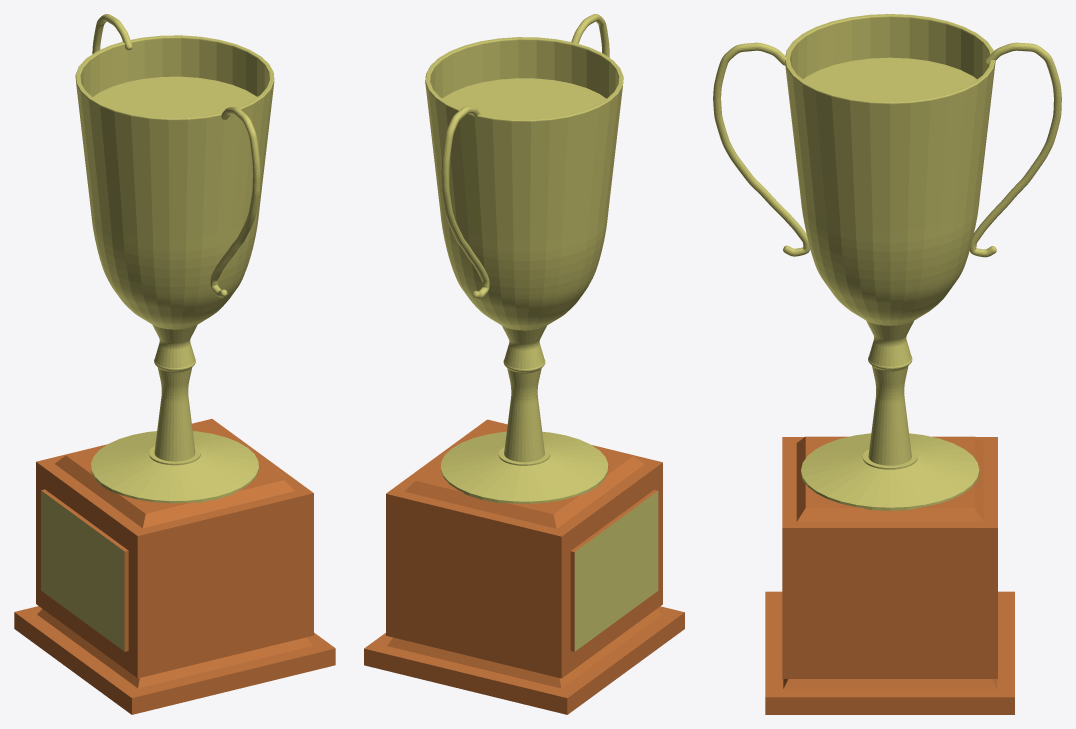
File: Piala.fbx
The picture shows the model from 3 angles, left to right: view 1: azimuth 30°, elevation 25°; view 2: azimuth 150°, elevation 25°; view 3: azimuth 270°, elevation 25°; orthographic projection. The views are drawn at different scales.
Visible parts, largest first — view 1: Cylinder.004; view 2: Cylinder.004; view 3: Cylinder.004.
Part boxes in pixels (box(x1,y1,x2,y2)): Cylinder.004: box(14, 14, 335, 714); Cylinder.004: box(364, 14, 684, 714); Cylinder.004: box(713, 14, 1061, 714).
Bounding box in the file's own units: 84 × 230 × 117.
